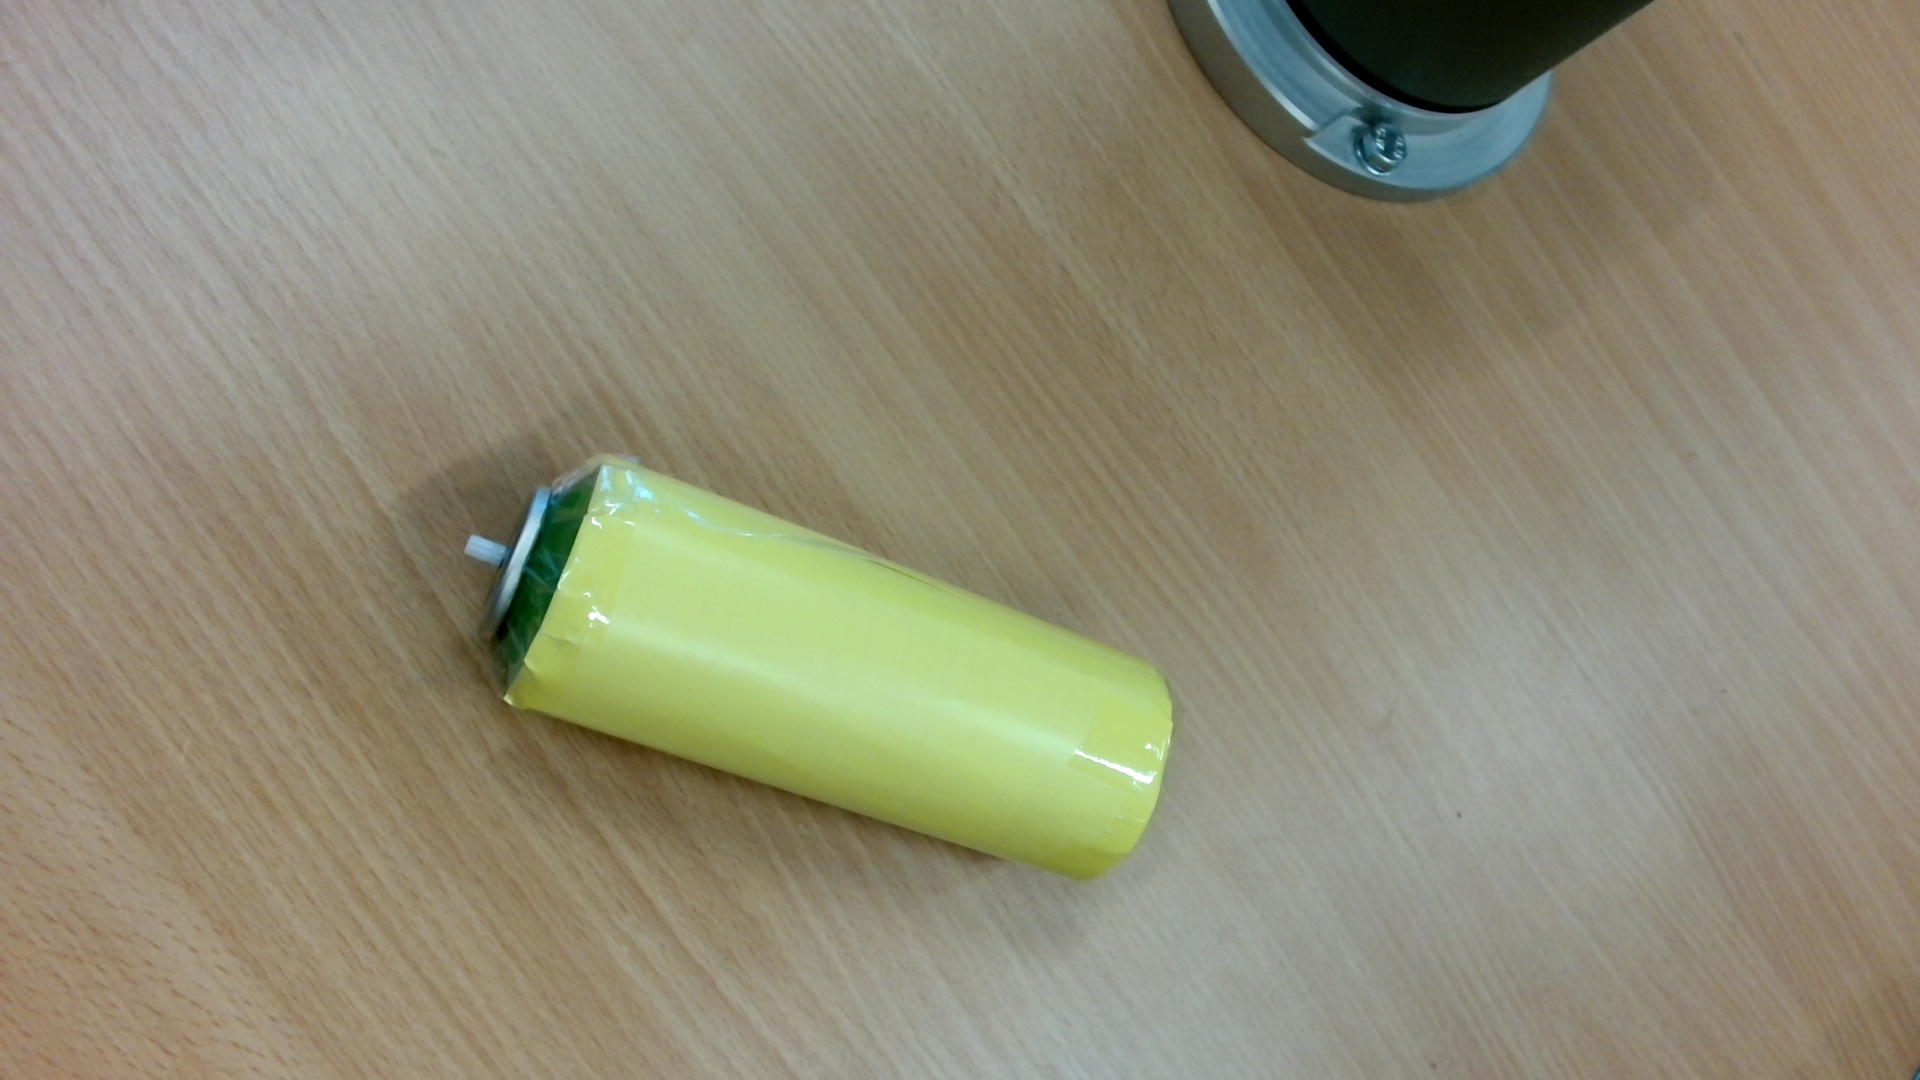Cylinder: (451, 442, 1188, 899)
